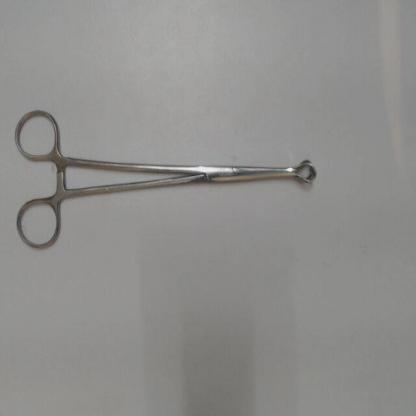8 Babcock Tissue Forceps: (10, 104, 321, 257)
